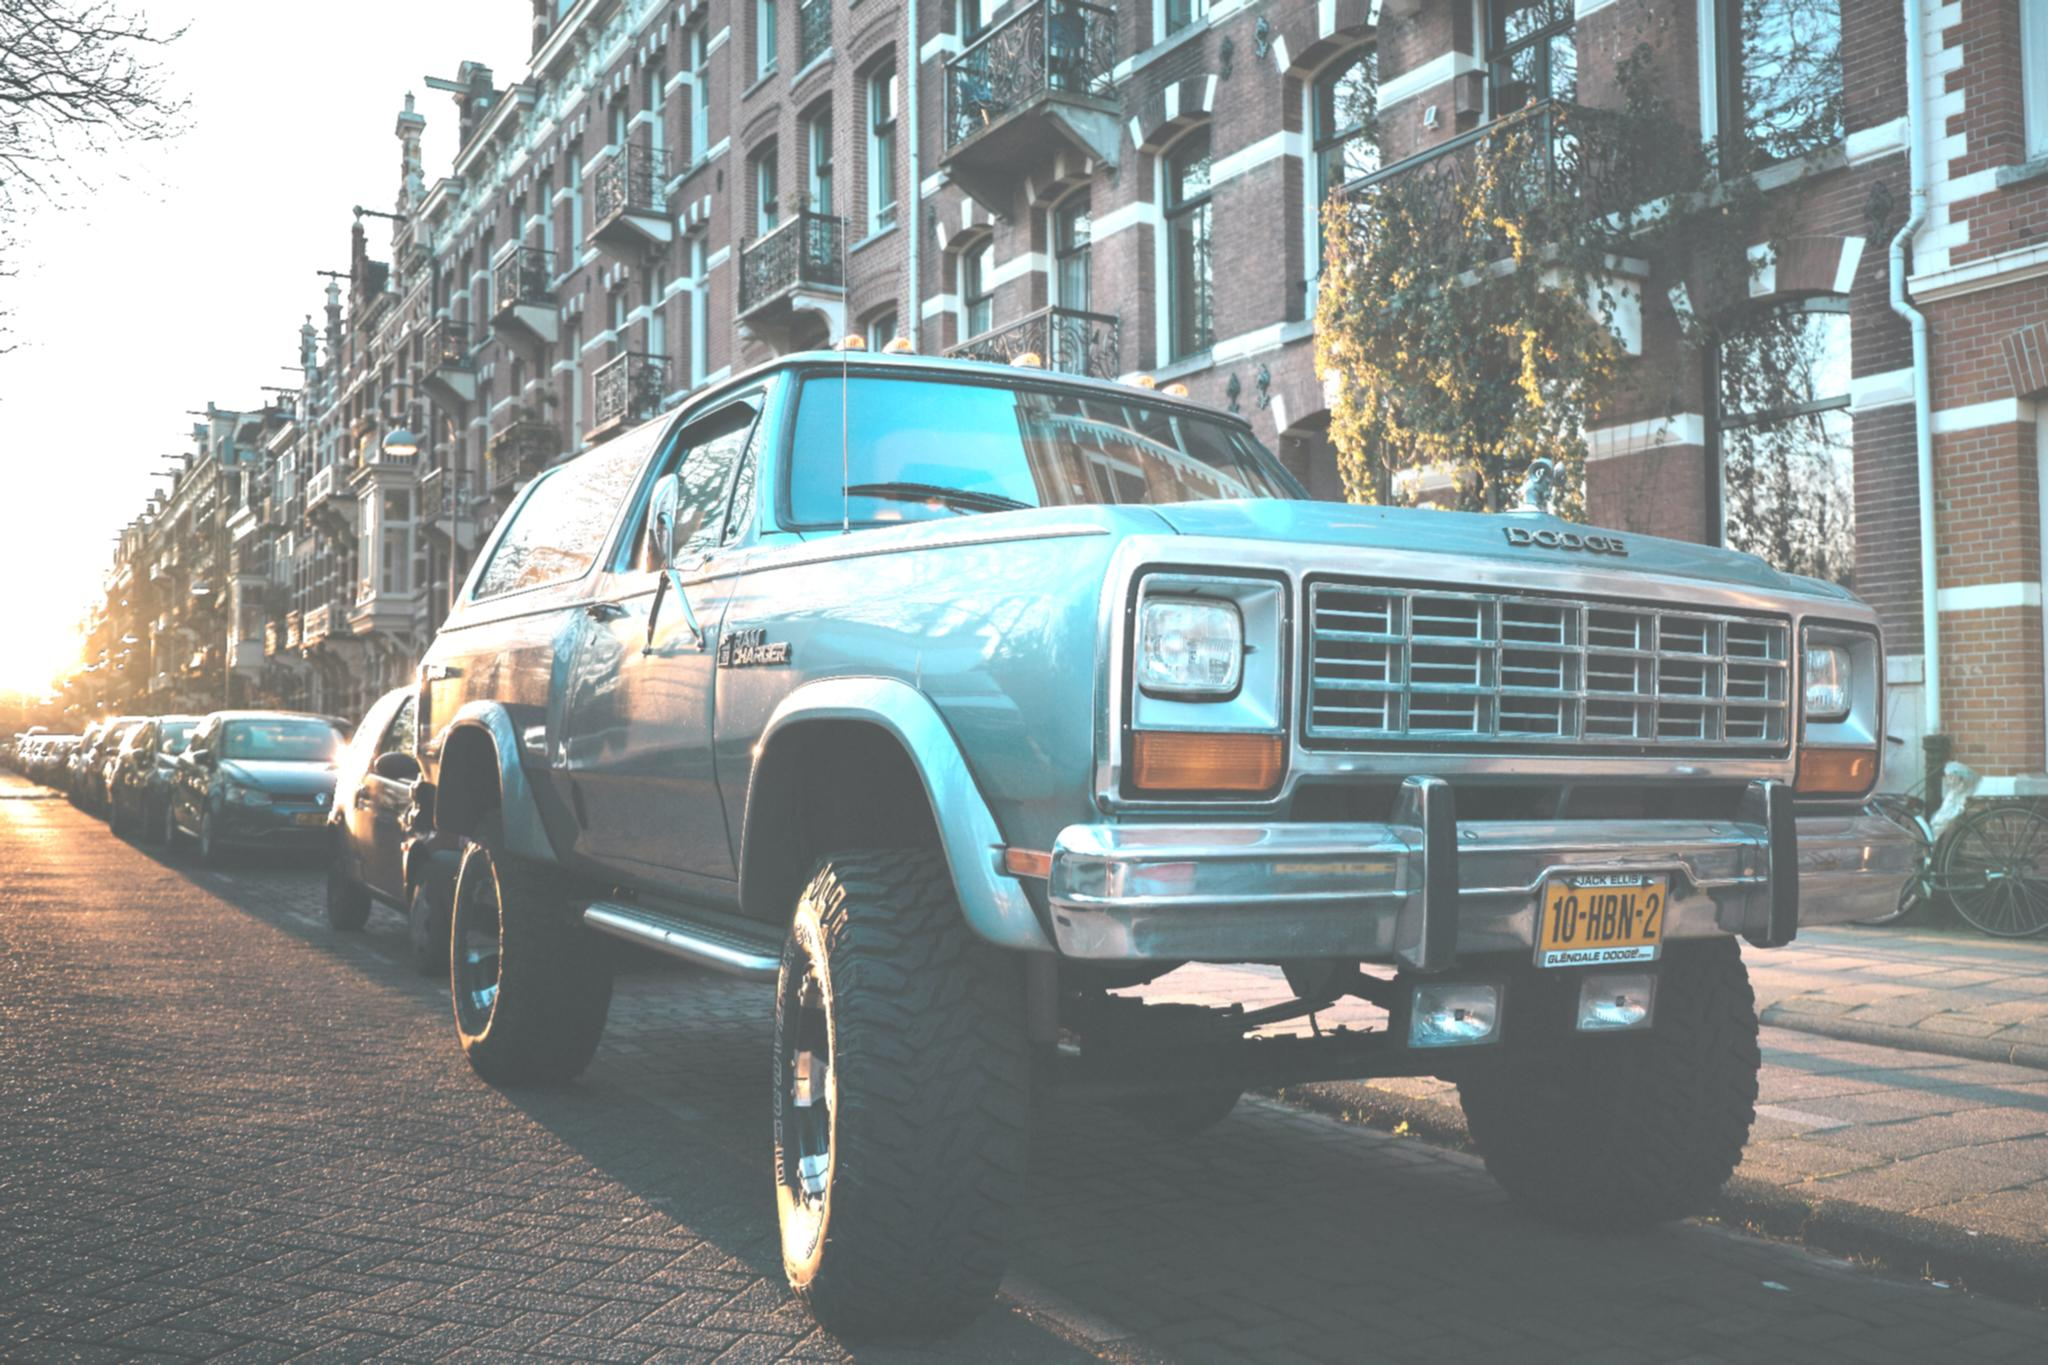dodge: (1488, 510, 1644, 573)
